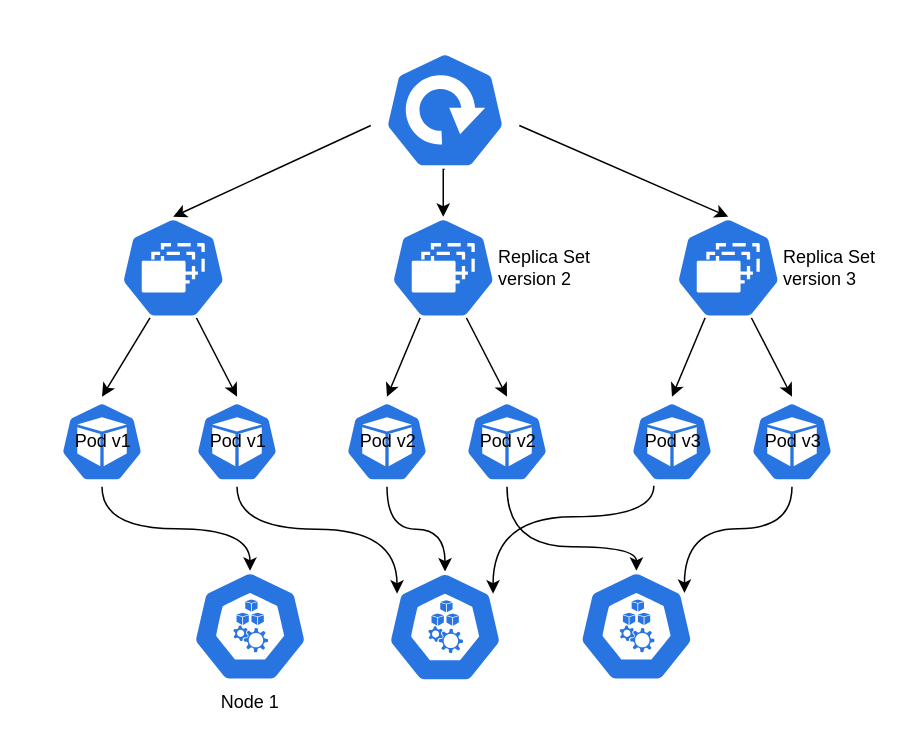
The diagram is 902 pixels wide and 740 high, and some of its shapes have lost their labels. Here are the shapes that lost their labels. From the top down, the box of each, then its label:
(369, 50, 520, 169): Deployment
(119, 215, 226, 319): Replica Set version 1
(384, 570, 505, 682): Node 2
(575, 569, 696, 682): Node 3
